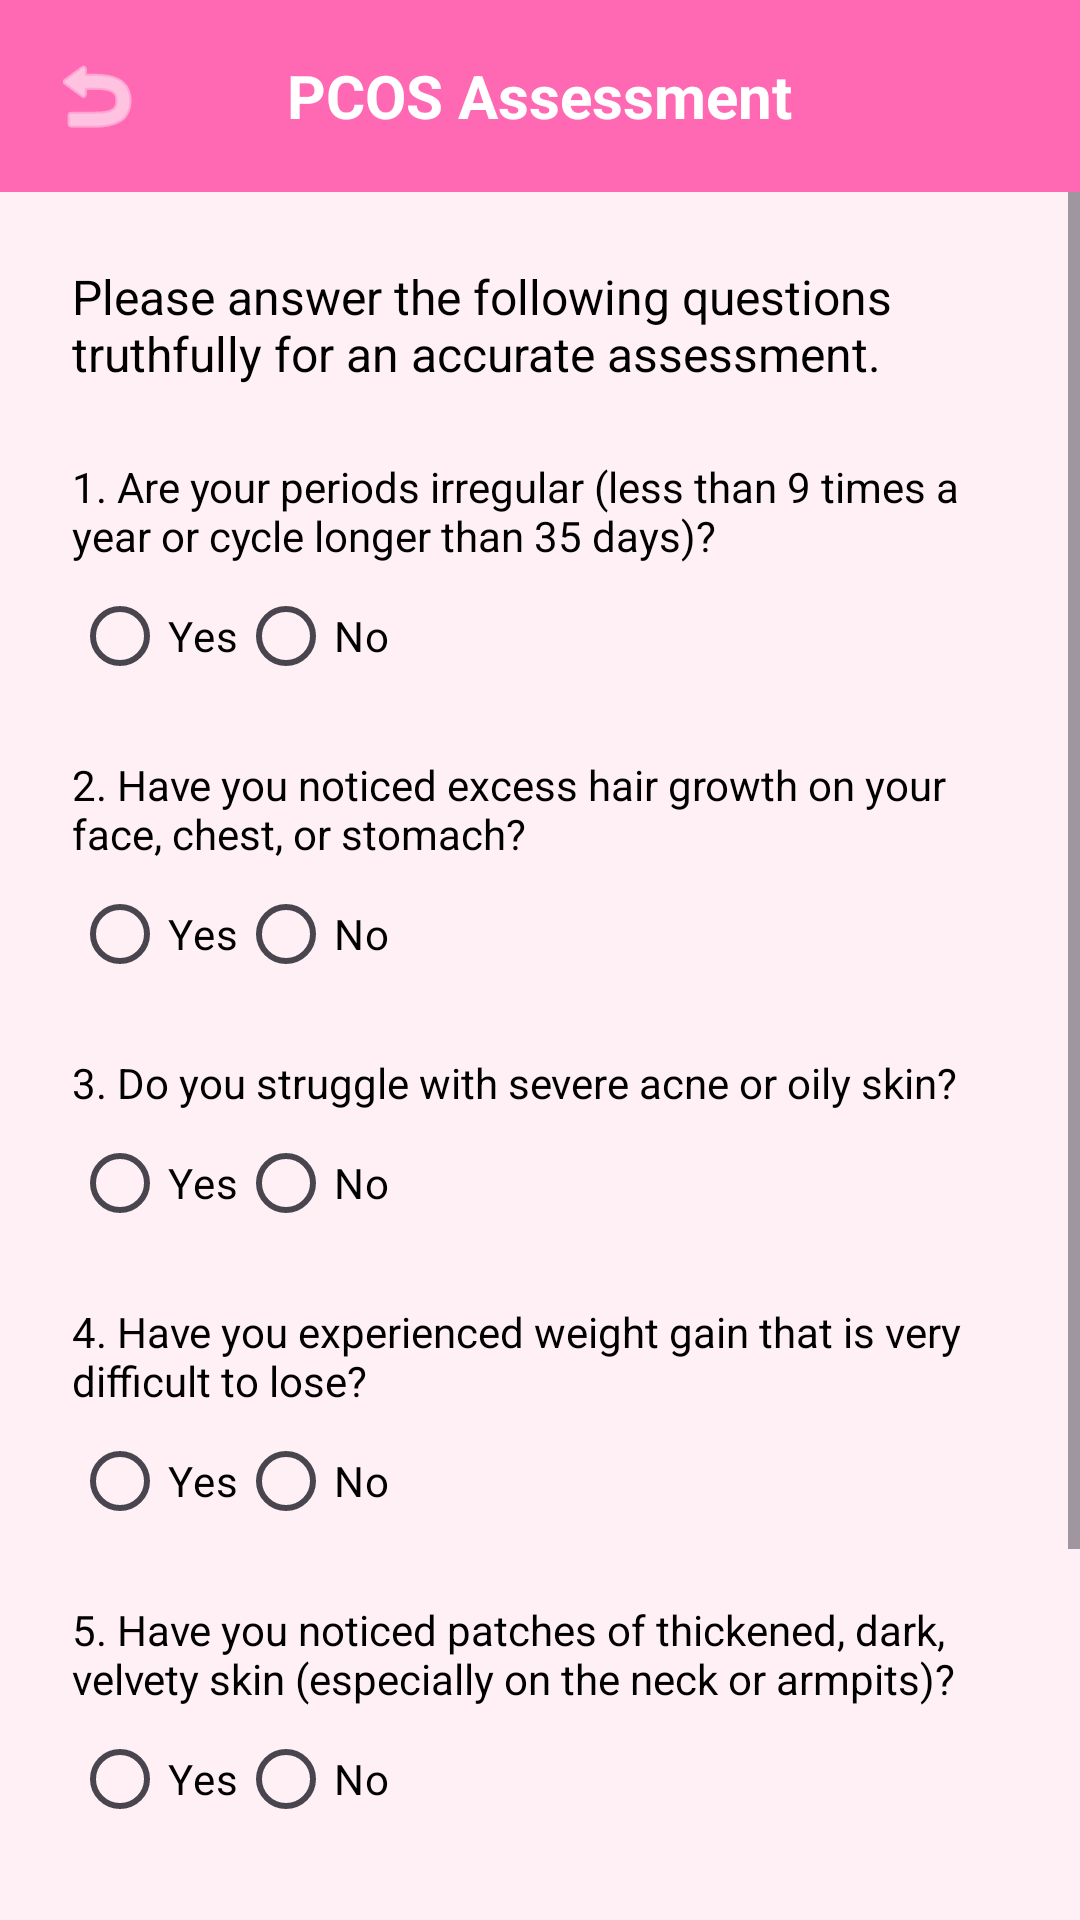

Icon bounding boxes for this 1080×1920 phone screenshot, format (x1, y1, x2, y2):
Back: (63, 66, 132, 128)
